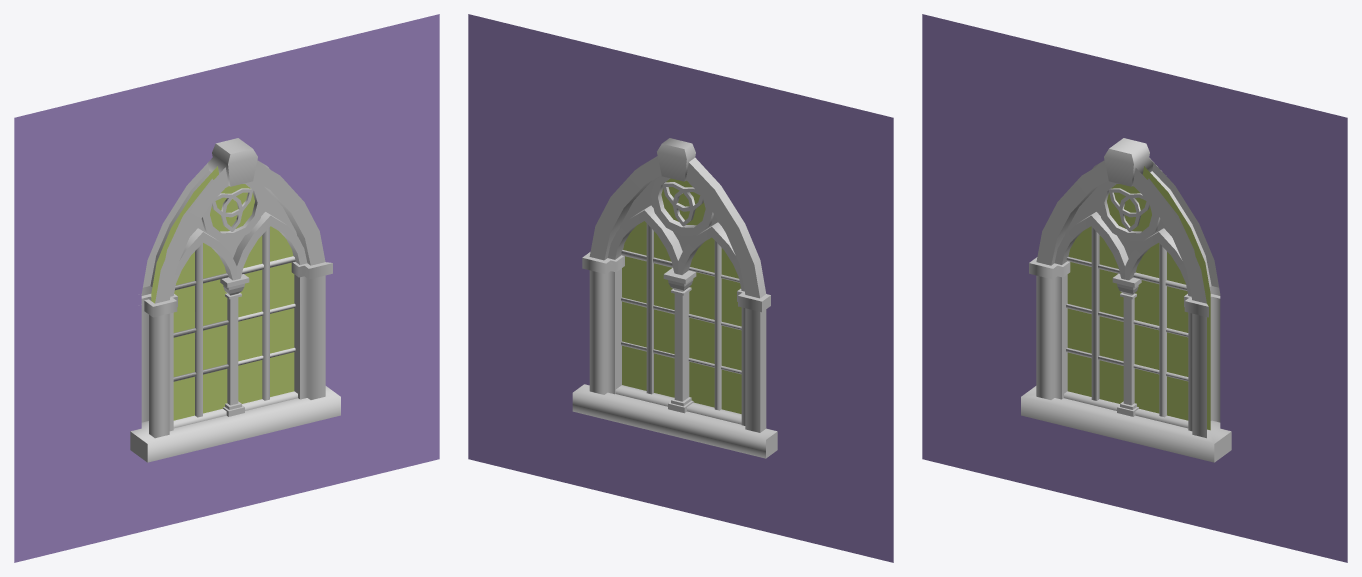
File: window_a_outside.fbx
3 views of the same model, side by side, from view 1: azimuth 30°, elevation 25°; view 2: azimuth 150°, elevation 25°; view 3: azimuth 330°, elevation 25° (orthographic).
Parts seen in each view (by area): view 1: Cube; view 2: Cube; view 3: Cube.
Part boxes in pixels (x1,y1,x2,y2): Cube: (14, 14, 439, 562); Cube: (468, 14, 893, 562); Cube: (922, 14, 1347, 562).
Size of the model in its own units: 5 by 5 by 0.589.
